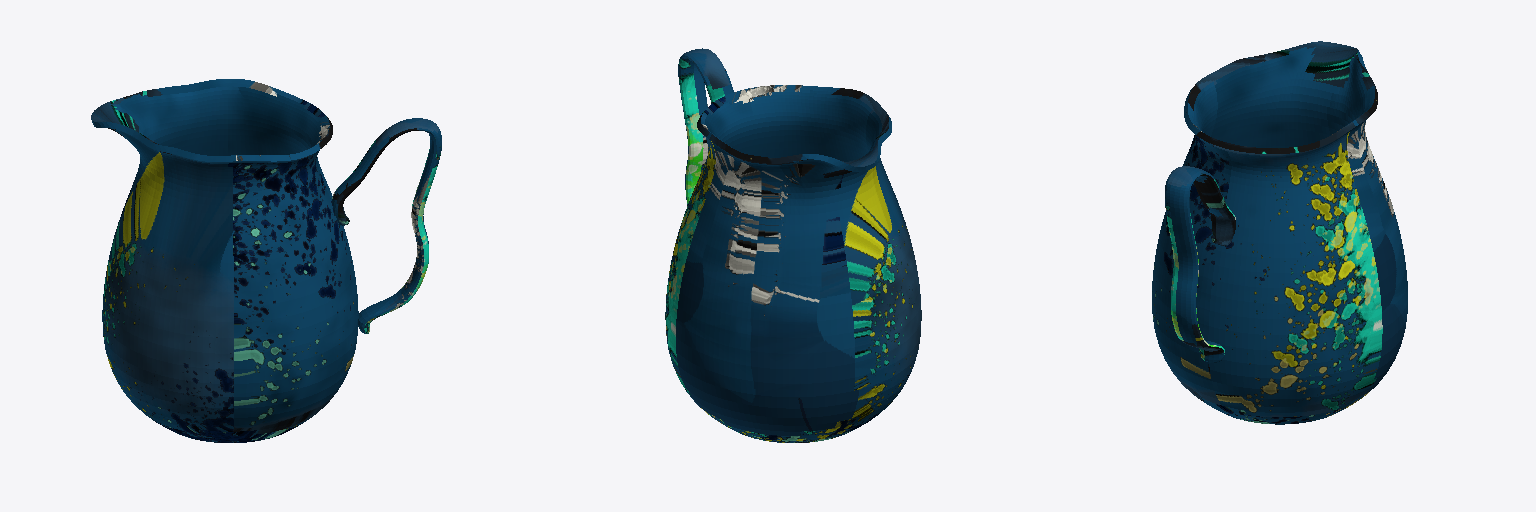
The picture shows the model from 3 angles: view 1: azimuth 30°, elevation 25°; view 2: azimuth 150°, elevation 25°; view 3: azimuth 270°, elevation 25°; orthographic projection.
Parts seen in each view (by area): view 1: Cylinder.026; view 2: Cylinder.026; view 3: Cylinder.026.
Part boxes in pixels (bbox=[...]): Cylinder.026: bbox=[91, 79, 441, 442]; Cylinder.026: bbox=[665, 48, 921, 442]; Cylinder.026: bbox=[1152, 41, 1407, 424].
Size of the model in its own units: 0.2736 by 0.2921 by 0.2224.
Materials: 1 (1 with a texture image).